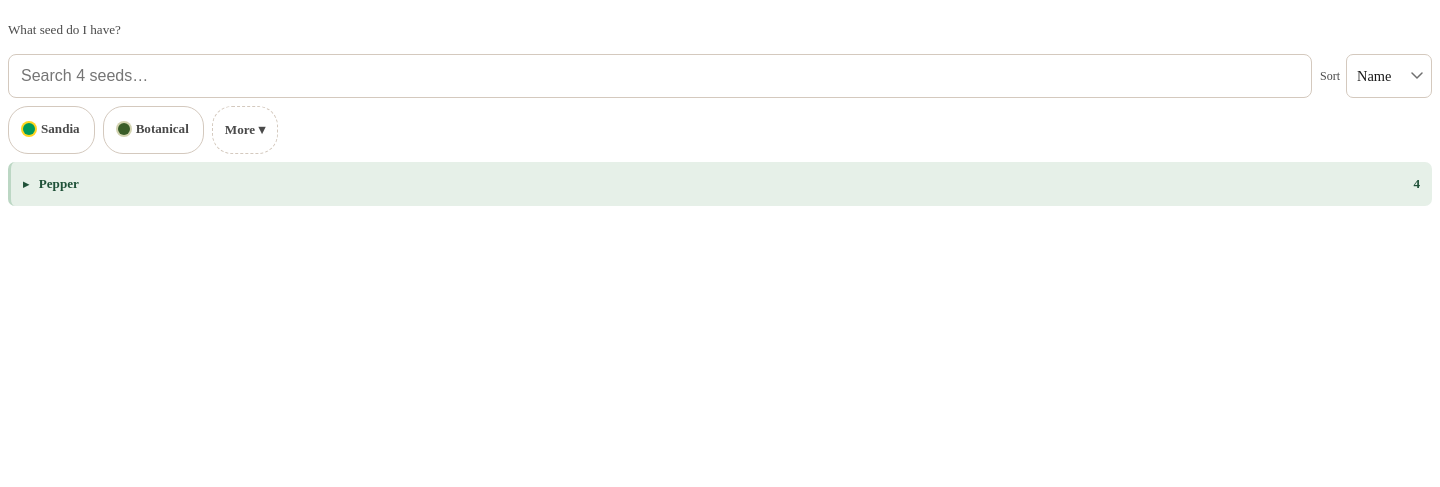
Test case: My seeds — what each card says › EVERY row with a heat keeps it as a whole item of its wrapping line — bought or saved, with or without an amount or chips
Expected: the element with test id "my-seeds-view" is shown, [8,8,1432,206]
Click the button with test id "facet-group-header". click: x=59, y=184
box: [8,162,1432,206]
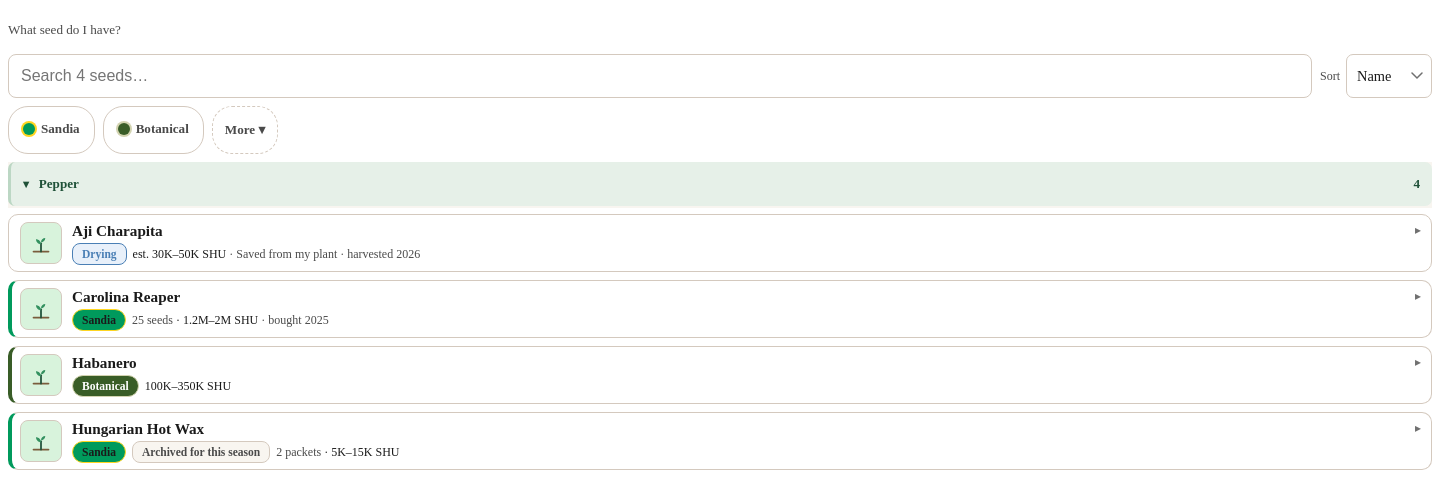
Now the text with test id "my-seed-heat" reads "1.2M–2M SHU", box [183,313,258,327]
Now the text with test id "my-seed-heat" reads "est. 30K–50K SHU", box [133,246,226,260]
